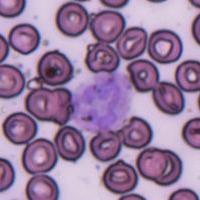N: (70, 70, 132, 133)
